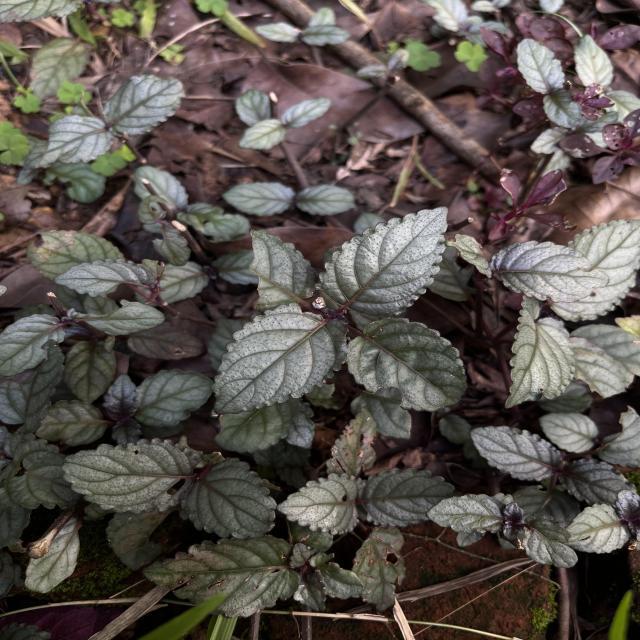Hemigraphis colorata: (208, 300, 350, 418), (308, 202, 451, 319), (340, 314, 470, 414), (56, 435, 198, 517), (176, 452, 278, 542), (502, 290, 577, 412), (488, 236, 612, 305), (278, 468, 366, 538), (466, 422, 563, 483), (423, 490, 504, 537)
